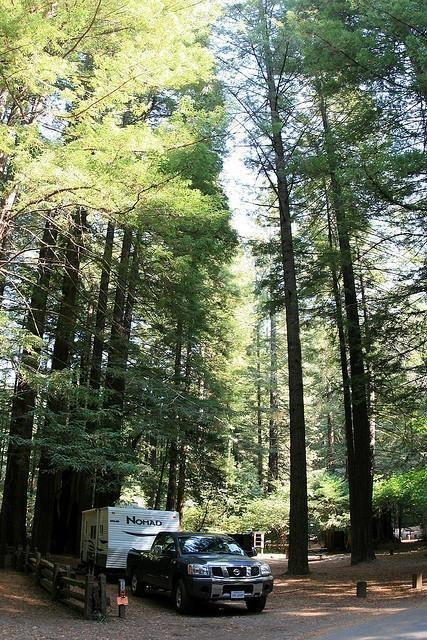truck: (124, 532, 274, 616)
